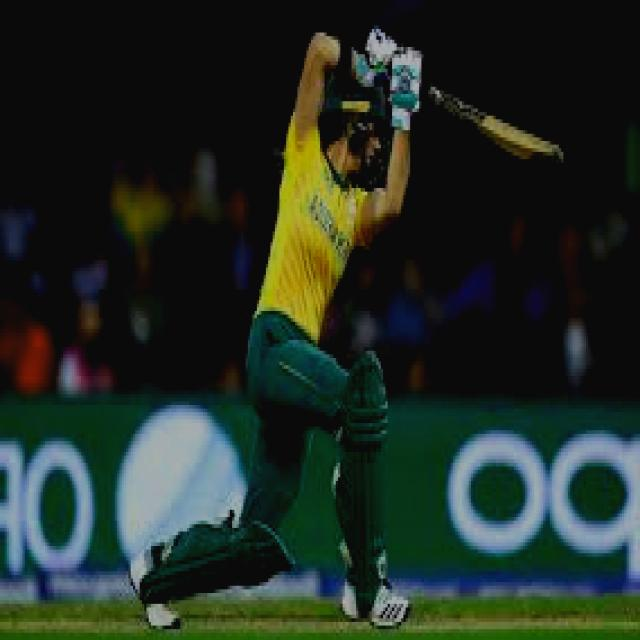toe: (522, 130, 565, 171)
